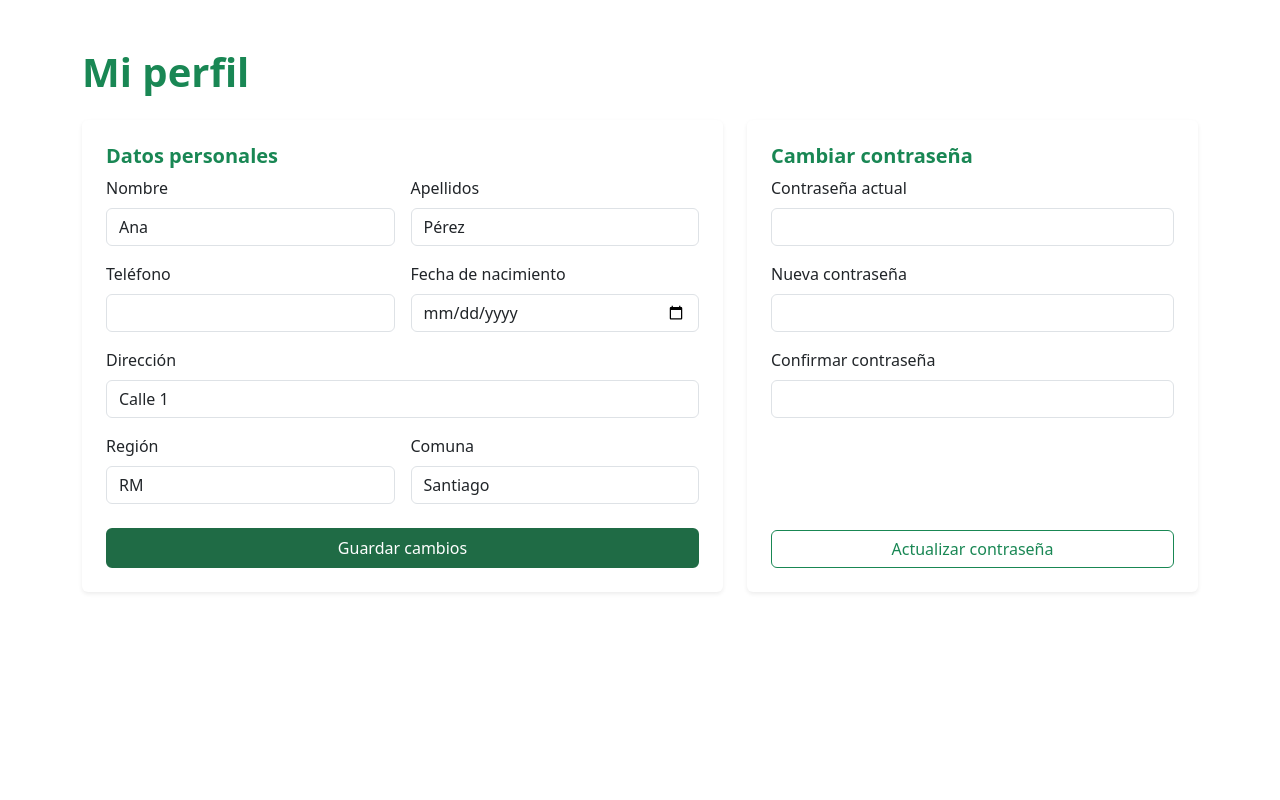
ProfilePage › cambia la contraseña, limpia el formulario y maneja errores
Check: the field labelled "Nombre" is shown, box [106,208,394,246]
Type "abcd" into the password field labelled "Contraseña actual". click: (972, 227)
box: [771,208,1174,246]
Type "nuev" into the password field labelled "Nueva contraseña". click: (972, 313)
box: [771,294,1174,332]
Type "nuev" into the password field labelled "Confirmar contraseña". click: (972, 399)
box: [771,380,1174,418]
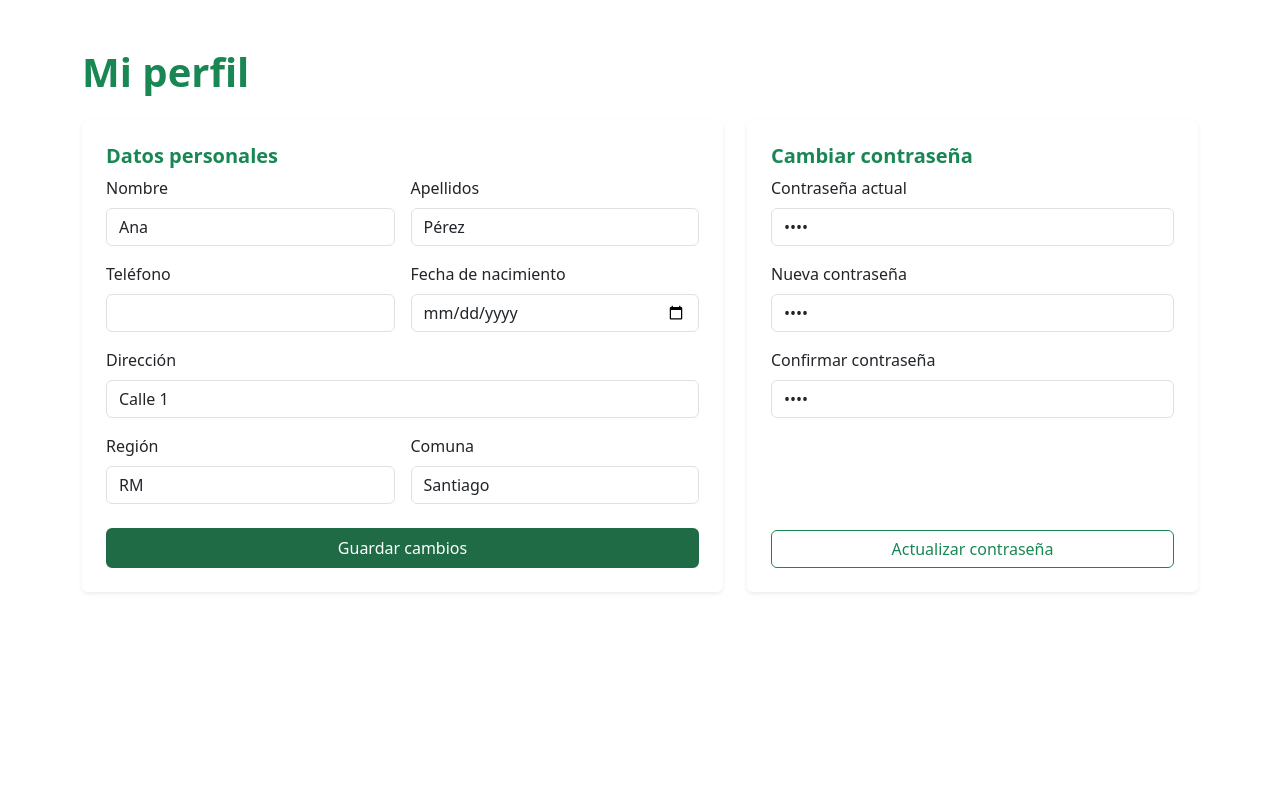
Click the button "Actualizar contraseña". click: click(972, 549)
box: [771,530,1174,568]
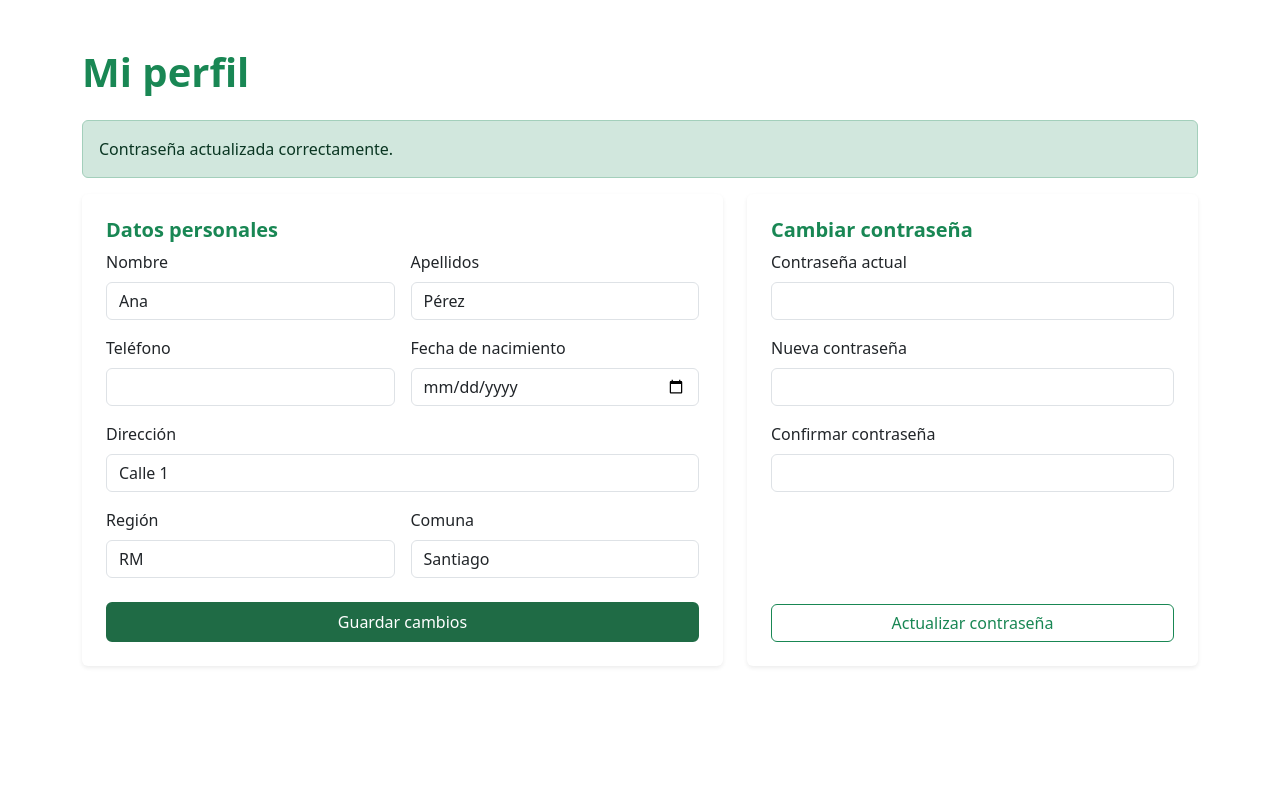
Check: the text "Contraseña actualizada correctamente." is shown, box [82,120,1198,178]
Check: the password field labelled "Contraseña actual" is empty
Type "abcd" into the password field labelled "Contraseña actual". click: (972, 301)
box: [771,282,1174,320]
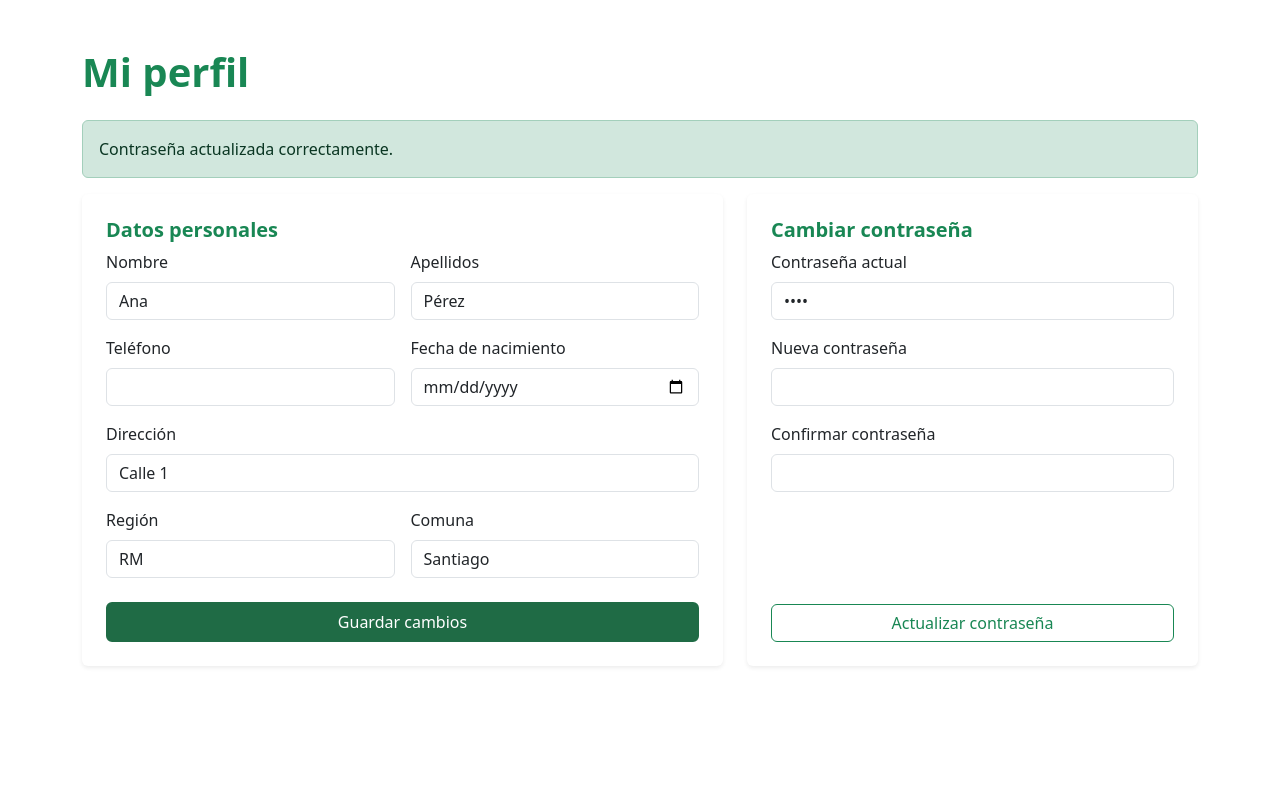
Type "nuev" into the password field labelled "Nueva contraseña". click: (972, 387)
box: [771,368,1174,406]
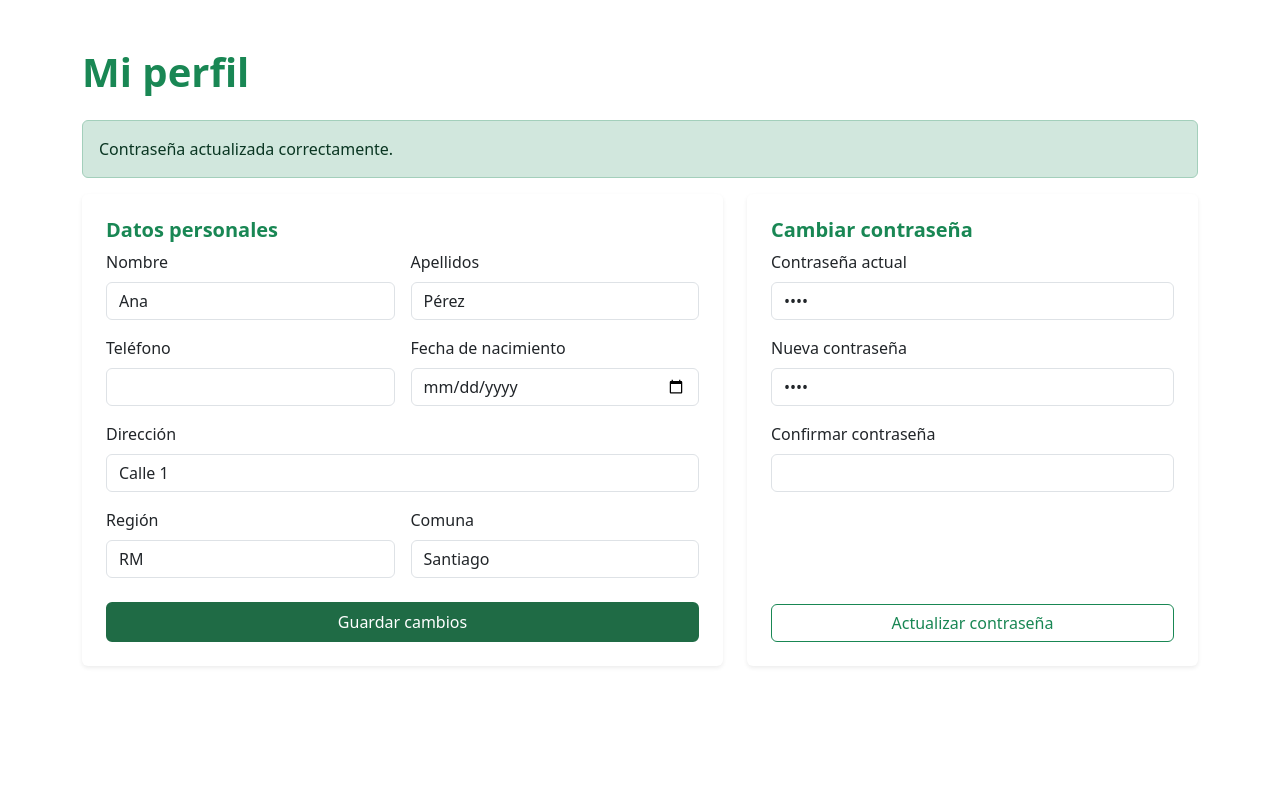
Type "nuev" into the password field labelled "Confirmar contraseña". click: (972, 473)
box: [771,454,1174,492]
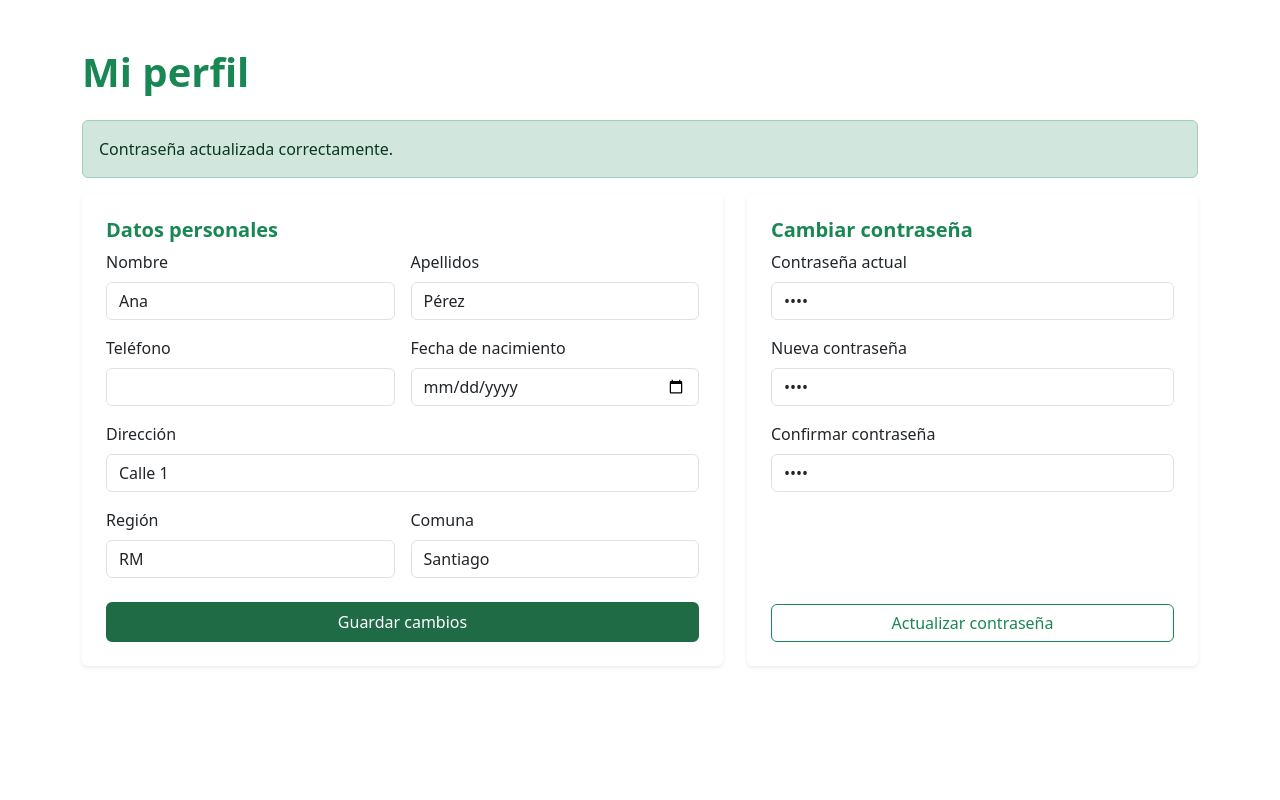
Click the button "Actualizar contraseña". click: click(972, 623)
box: [771,604,1174,642]
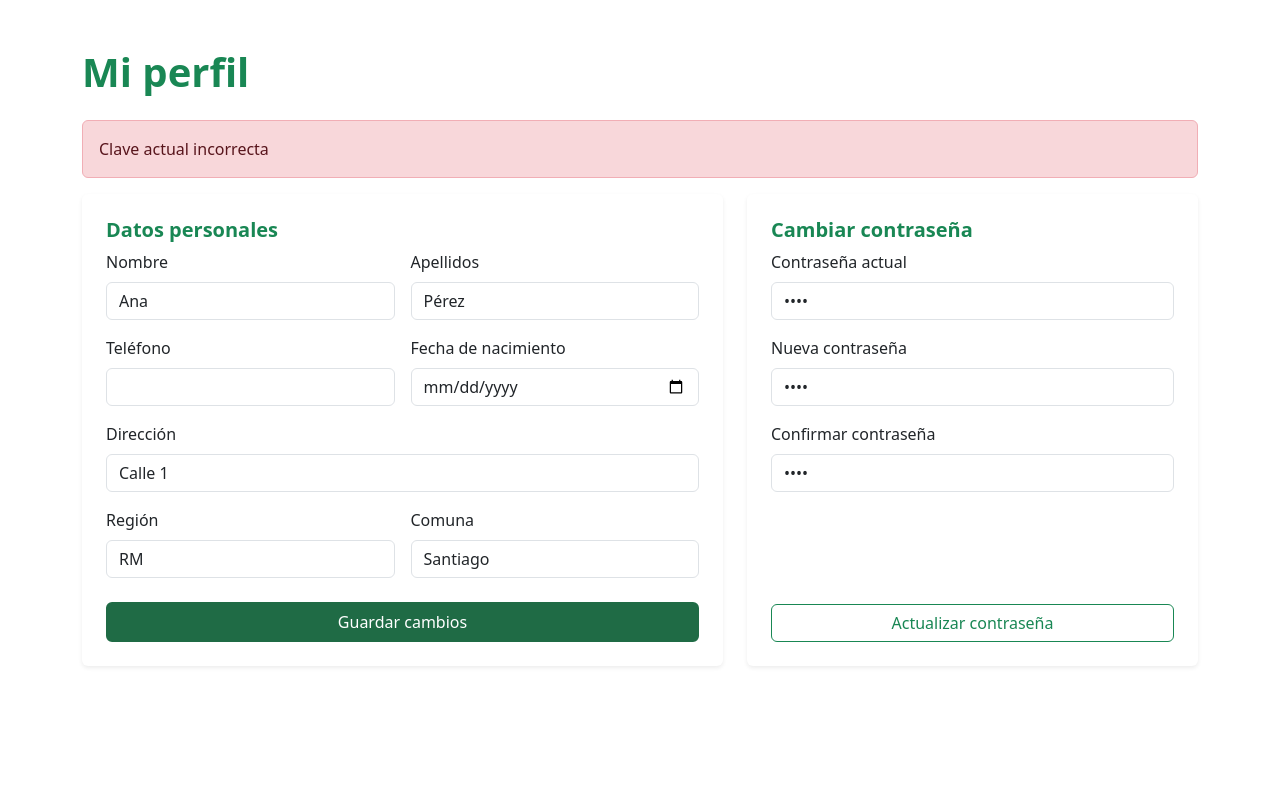
Check: the text "Clave actual incorrecta" is shown, box [82,120,1198,178]
